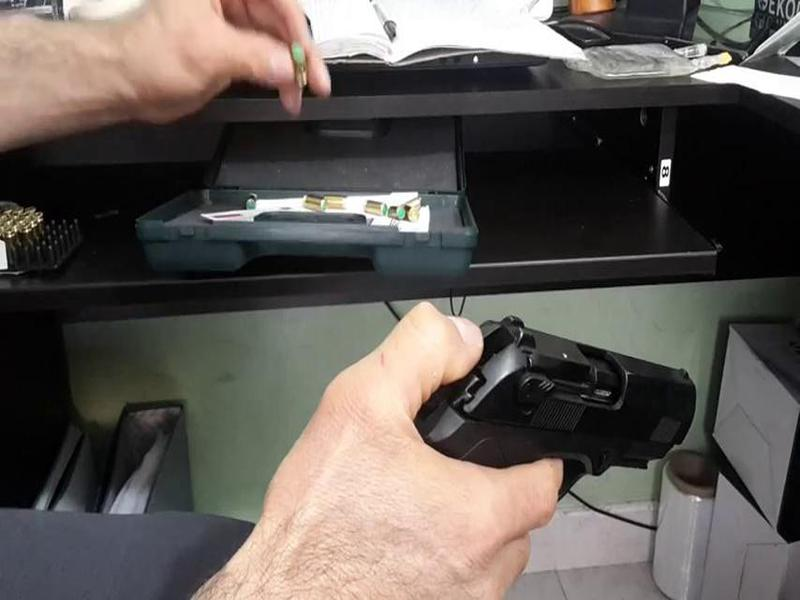Pistola: (397, 284, 713, 511)
